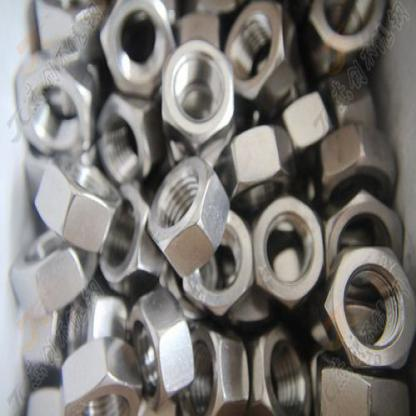FOD: (325, 244, 415, 374), (147, 155, 230, 276), (252, 190, 326, 312), (124, 286, 195, 406), (158, 39, 236, 148)
